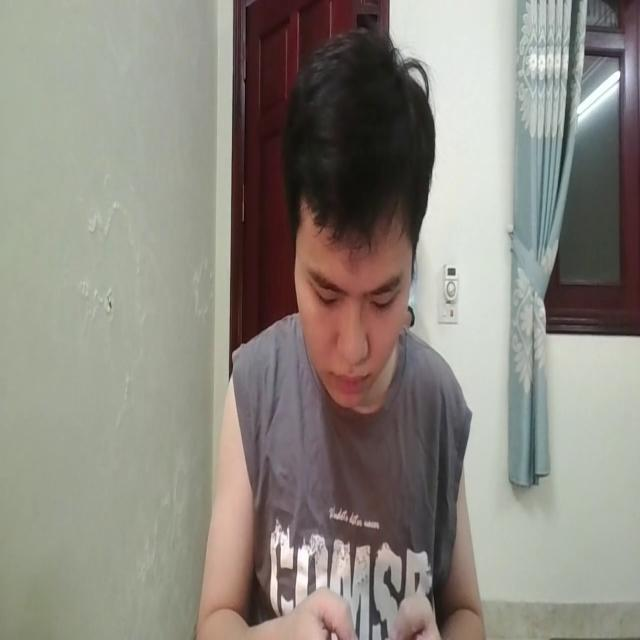student: (203, 42, 483, 640)
